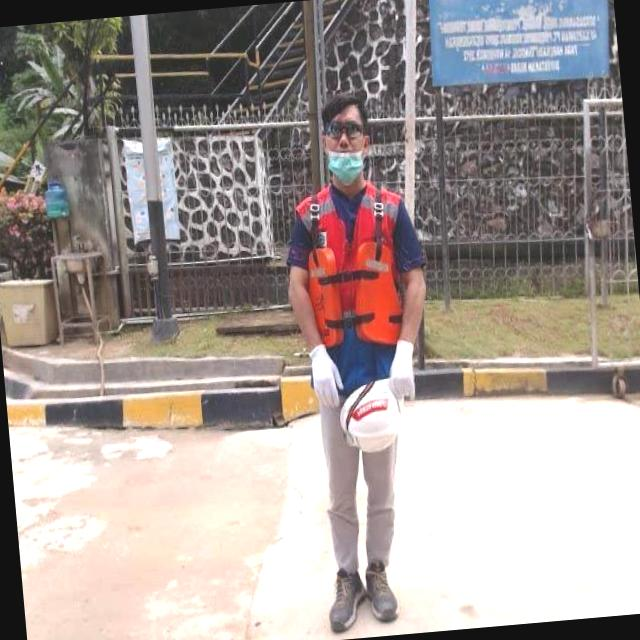vest: (282, 173, 417, 366)
